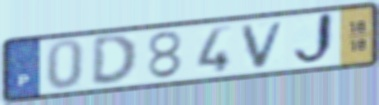0: (41, 37, 88, 93)
4: (194, 24, 235, 75)
8: (145, 29, 185, 80)
D: (89, 33, 140, 87)
J: (291, 10, 337, 70)
V: (239, 19, 289, 71)
